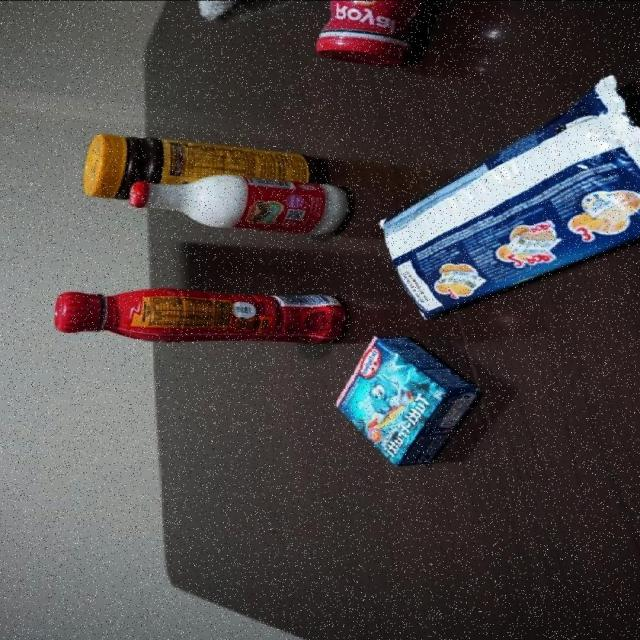ChocolateMilk: (54, 286, 352, 347)
ChocolatePowder: (82, 130, 354, 200)
CoconutMilk: (127, 171, 367, 235)
Gelatine: (331, 333, 485, 469)
Popcorn: (378, 73, 640, 320)
Yeast: (313, 0, 442, 70)
